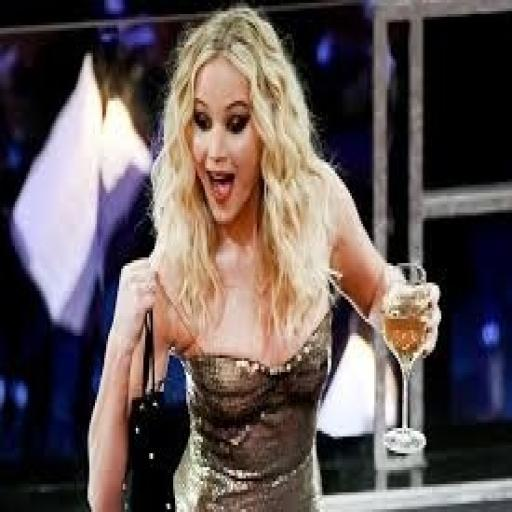drinking: (378, 260, 430, 453)
